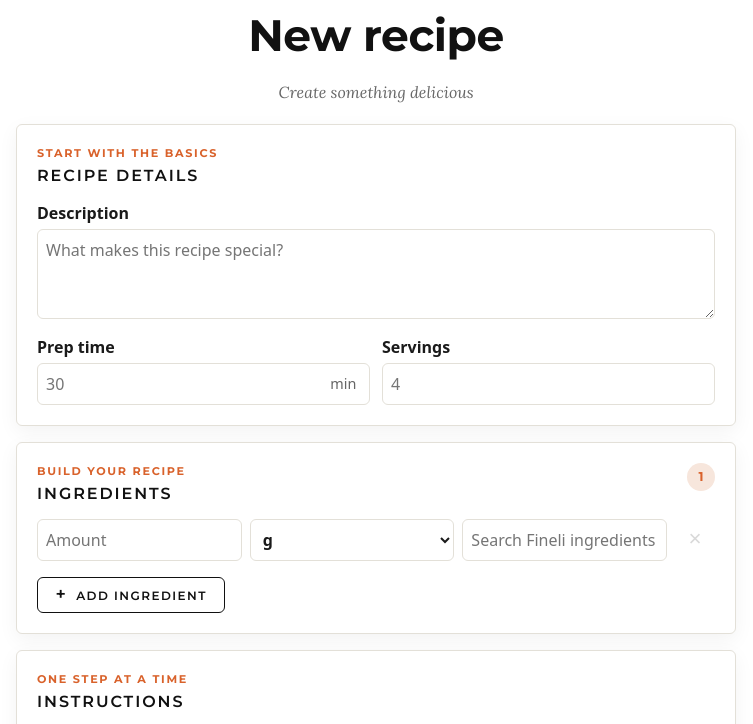
Test: RecipeFormPage › shows empty search feedback when Fineli returns no matches
The image size is (753, 724).
In the dropdown named "Ingredient 1": (565, 540) [462,519,667,561], type "zzzznothing"
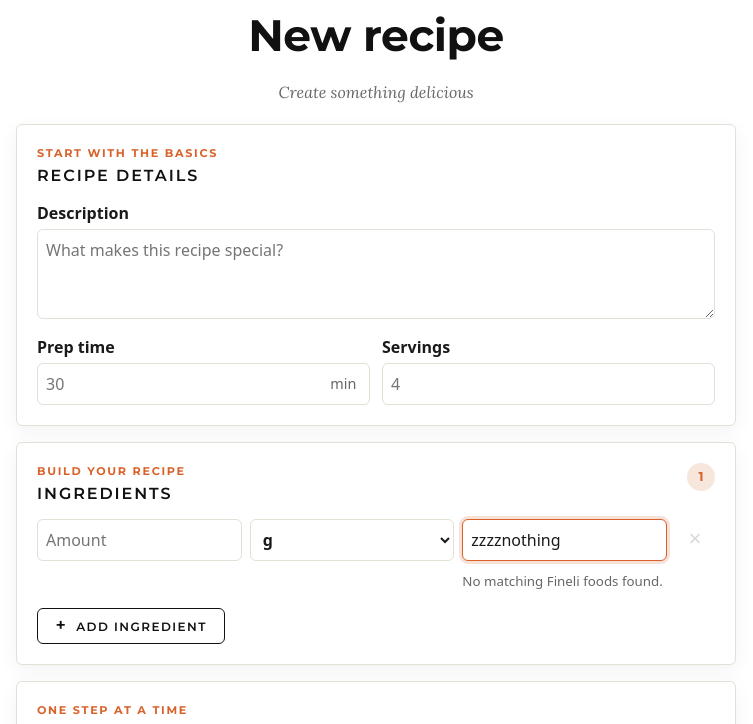
Now the text "No matching Fineli foods found." is shown, box [462,572,667,592]
